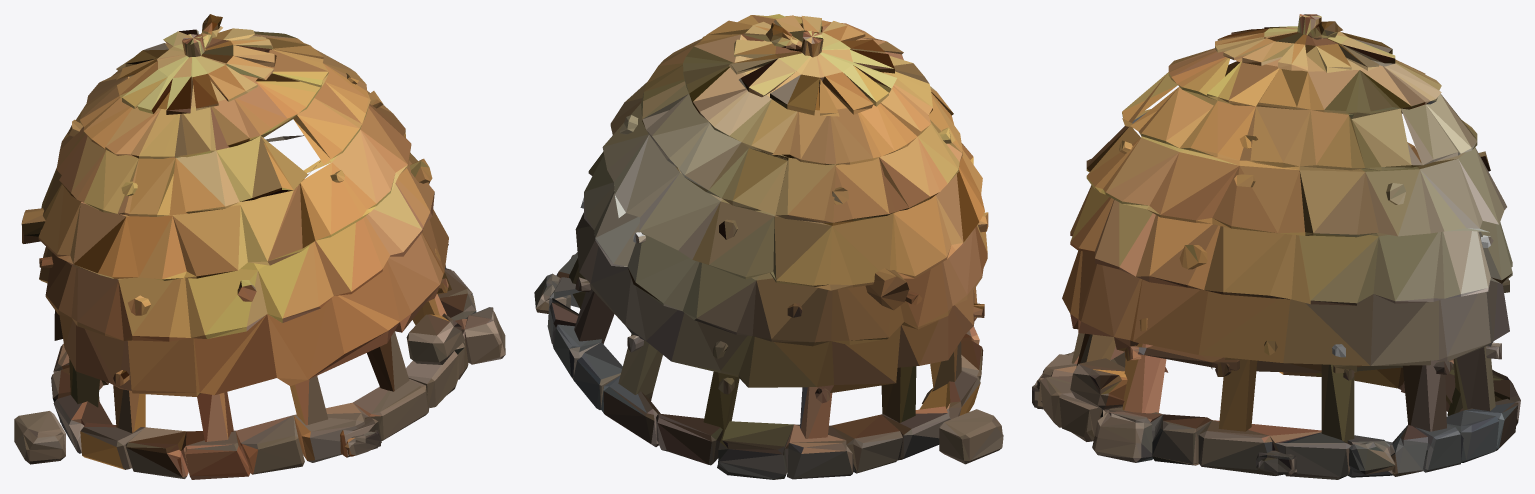
Rendered from Haystack.glb.
The picture shows the model from 3 angles, left to right: view 1: azimuth 30°, elevation 25°; view 2: azimuth 150°, elevation 25°; view 3: azimuth 270°, elevation 25°; orthographic projection. The views are drawn at different scales.
Visible parts, largest first — view 1: world; view 2: world; view 3: world.
Boxes of the visible parts, left/top/right/bottom form: world: left=14, top=14, right=505, bottom=479; world: left=534, top=14, right=1003, bottom=479; world: left=1032, top=14, right=1520, bottom=479.
Size of the model in its own units: 0.3848 by 0.332 by 0.3496.
